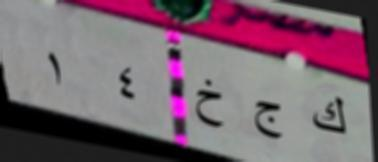1: (46, 46, 67, 96)
4: (116, 59, 138, 110)
jeem: (248, 94, 288, 149)
kaaf: (310, 90, 351, 145)
khaa: (192, 76, 226, 137)
